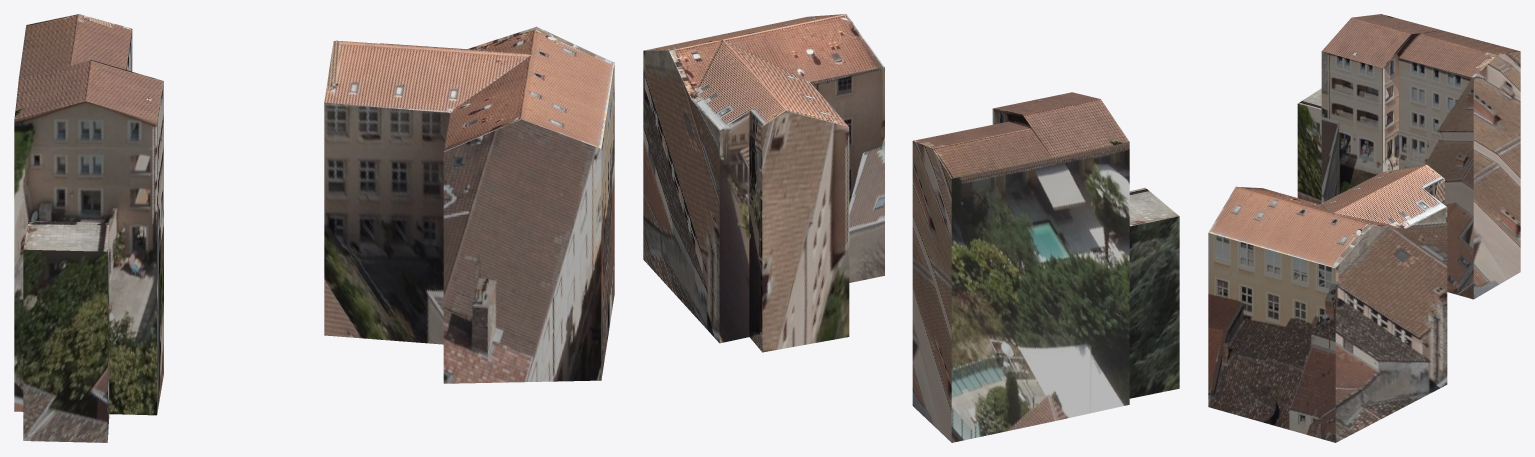
3 views of the same model, side by side, from view 1: azimuth 30°, elevation 25°; view 2: azimuth 150°, elevation 25°; view 3: azimuth 270°, elevation 25° (orthographic). The views are drawn at different scales.
Parts seen in each view (by area): view 1: Z_UP; view 2: Z_UP; view 3: Z_UP.
Part boxes in pixels (x1,y1,x2,y2): Z_UP: [14, 14, 614, 442]; Z_UP: [643, 14, 1179, 442]; Z_UP: [1208, 14, 1520, 442].
Size of the model in its own units: 52.95 by 26.67 by 32.11.
Materials: 2 (1 with a texture image).
